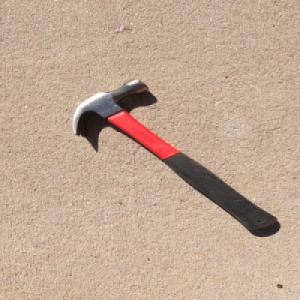Hammer: (68, 77, 282, 232)
